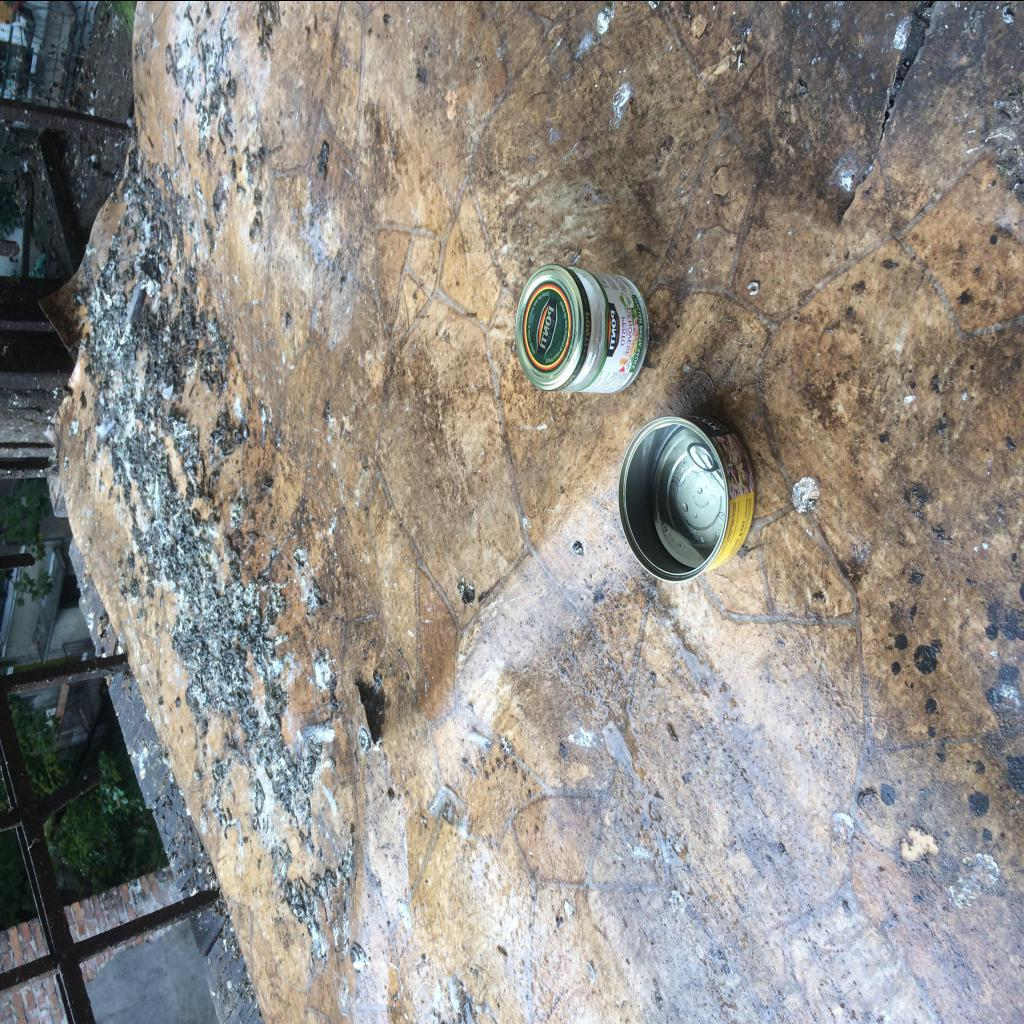Food Can: (618, 413, 756, 582)
Glass jar: (516, 263, 650, 393)
Metal lid: (515, 264, 592, 390)
Pop tab: (688, 442, 720, 472)
